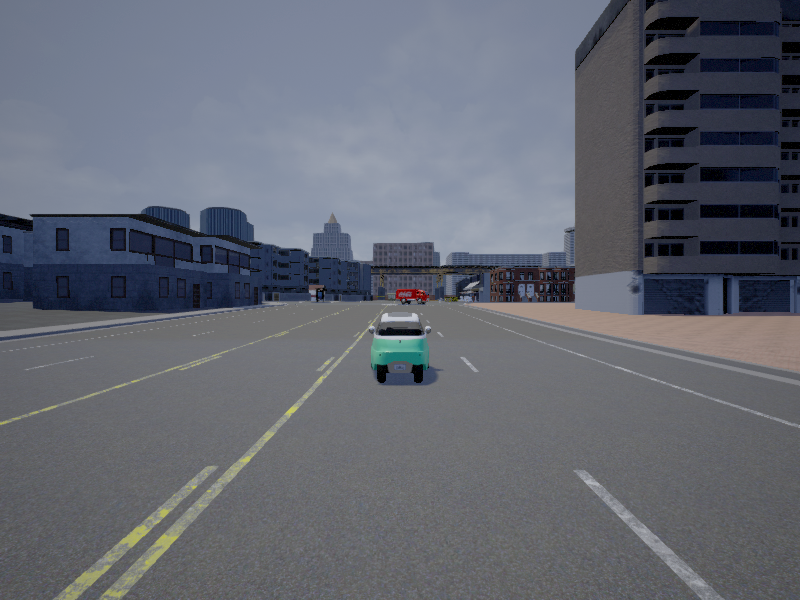Benign: (369, 313, 432, 384), (396, 287, 428, 306)
